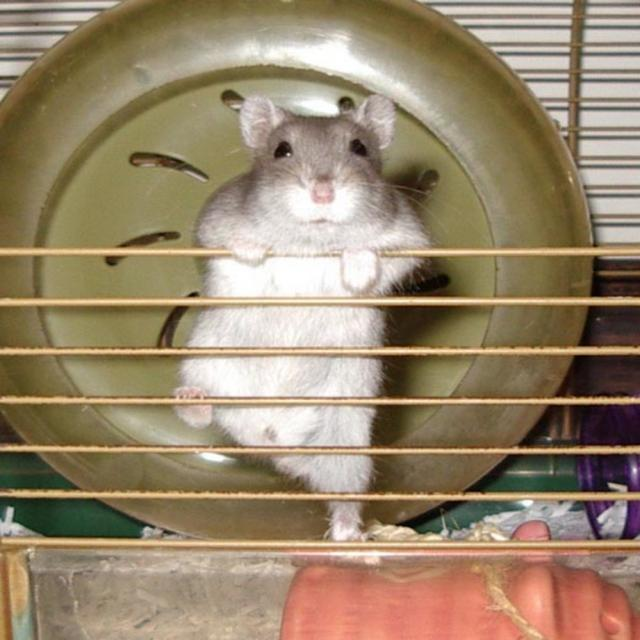rat: (167, 94, 439, 543)
